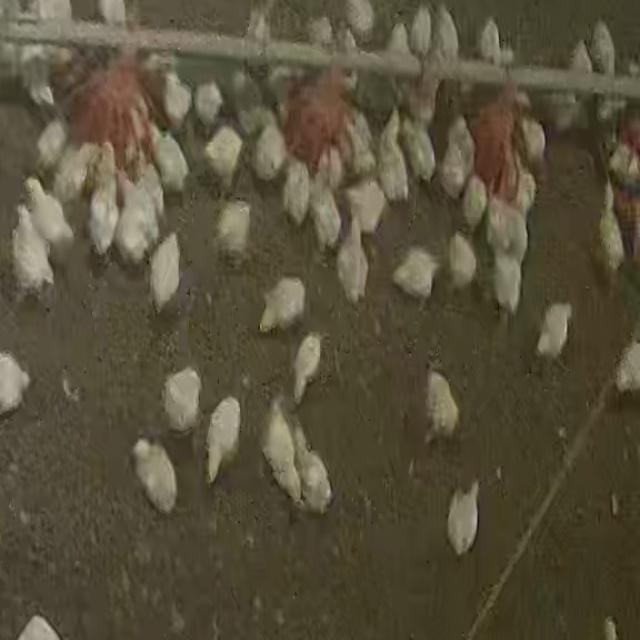chicken: (8, 204, 58, 309), (260, 398, 304, 509), (24, 176, 76, 268), (114, 172, 161, 270), (130, 437, 182, 518), (204, 394, 242, 486), (51, 136, 100, 206), (420, 367, 462, 445), (148, 232, 185, 316), (338, 218, 374, 304), (88, 166, 120, 262), (292, 441, 333, 515), (160, 364, 203, 434), (202, 122, 247, 188), (256, 274, 308, 331), (391, 245, 441, 304), (376, 112, 409, 200), (150, 126, 192, 195), (445, 482, 483, 558), (342, 177, 387, 236), (596, 194, 626, 280), (214, 199, 254, 263), (535, 301, 575, 363), (307, 175, 341, 247), (293, 329, 324, 407), (0, 348, 33, 419), (440, 122, 470, 199), (252, 117, 287, 182), (158, 68, 193, 130), (447, 229, 479, 296), (491, 254, 524, 318), (282, 158, 312, 228), (35, 118, 69, 178), (193, 78, 226, 130), (460, 175, 489, 233), (432, 2, 460, 59), (478, 17, 504, 68)
